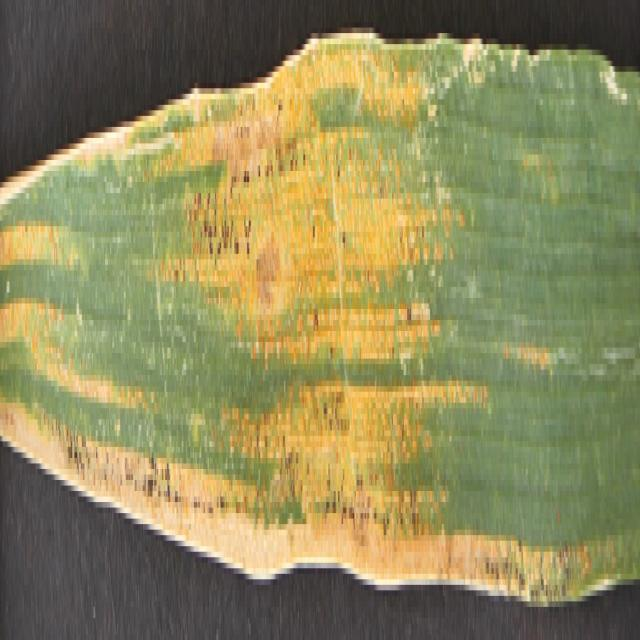leaf rust: (1, 16, 616, 602)
